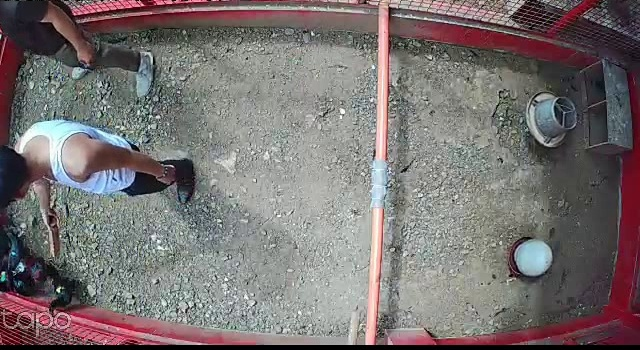Chicken: (46, 261, 85, 321)
Saddle_Color_Yellow: (56, 284, 65, 295)
